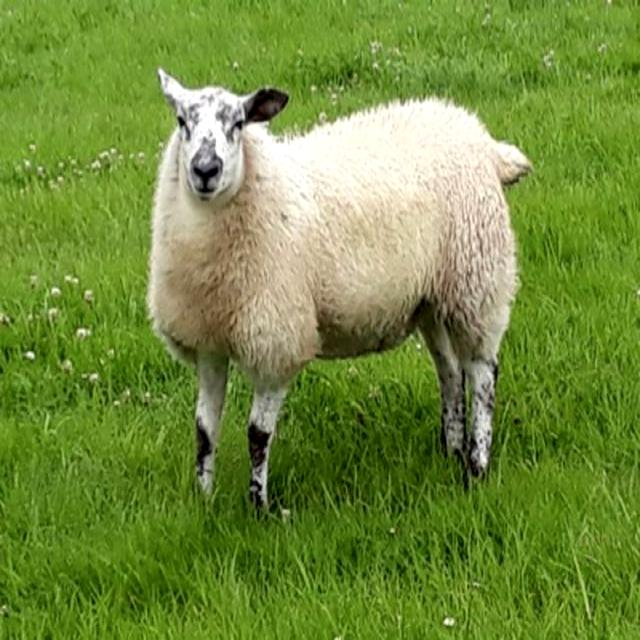sheep: (149, 66, 533, 518)
